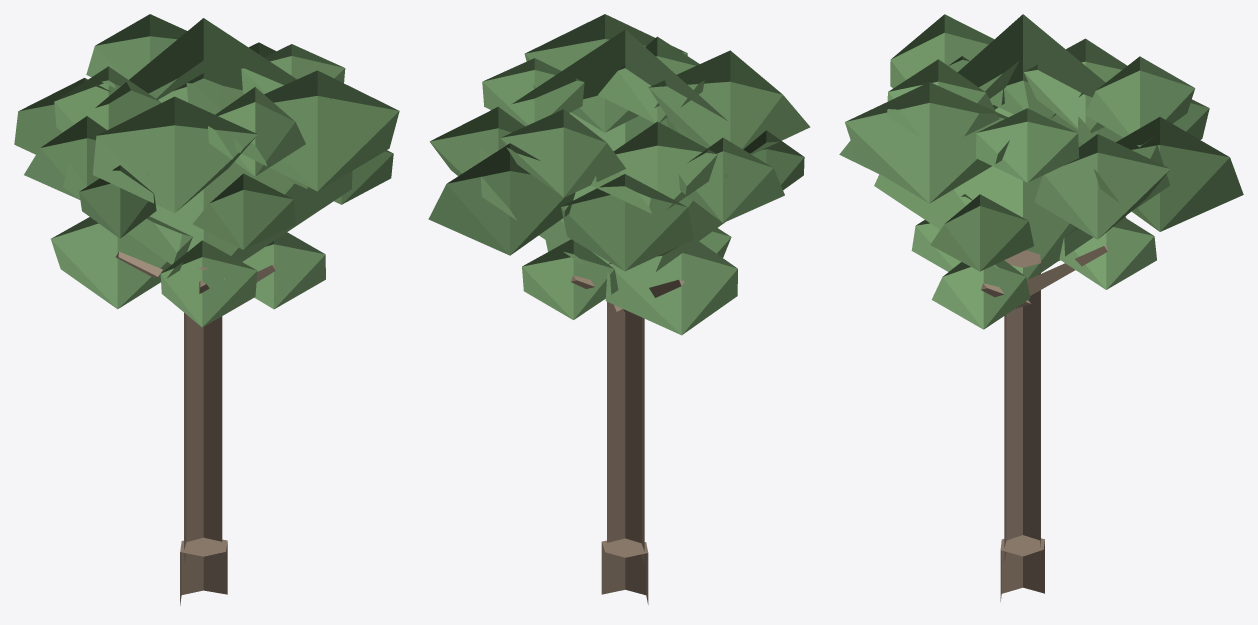
Rendered from tree.trop.dipterocarp__summer.glb.
3 renders of one model, left to right at view 1: azimuth 30°, elevation 25°; view 2: azimuth 150°, elevation 25°; view 3: azimuth 270°, elevation 25°, orthographic. The views are drawn at different scales.
Parts seen in each view (by area): view 1: tree.trop.dipterocarp__summer; view 2: tree.trop.dipterocarp__summer; view 3: tree.trop.dipterocarp__summer.
Part boxes in pixels (bbox=[...]): tree.trop.dipterocarp__summer: bbox=[14, 14, 399, 605]; tree.trop.dipterocarp__summer: bbox=[428, 14, 810, 604]; tree.trop.dipterocarp__summer: bbox=[839, 14, 1243, 601].
Bounding box in the file's own units: 17.86 × 29.23 × 18.32.
